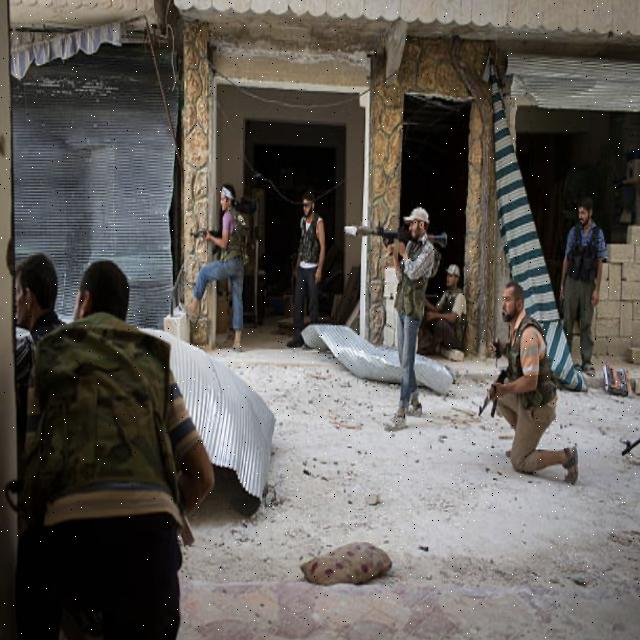bazooka: (341, 220, 463, 264)
